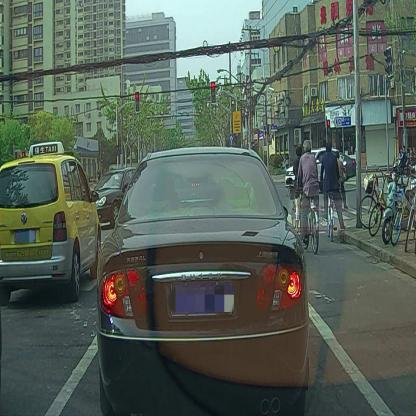Red Light: (211, 81, 216, 105), (136, 91, 140, 113)
